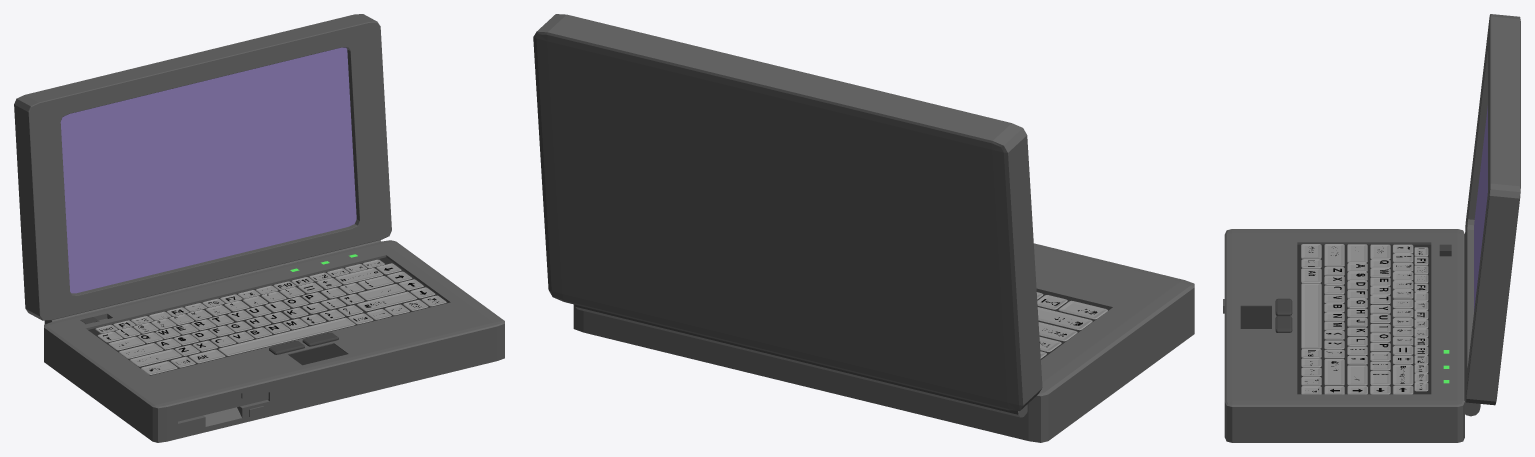
Rendered from laptop.obj.
The picture shows the model from 3 angles, left to right: view 1: azimuth 30°, elevation 25°; view 2: azimuth 150°, elevation 25°; view 3: azimuth 270°, elevation 25°; orthographic projection. The views are drawn at different scales.
Parts seen in each view (by area): view 1: Laptop.lwo; view 2: Laptop.lwo; view 3: Laptop.lwo.
Part boxes in pixels (x1,y1,x2,y2): Laptop.lwo: [14, 14, 504, 442]; Laptop.lwo: [533, 14, 1194, 442]; Laptop.lwo: [1223, 14, 1520, 442].
Bounding box in the file's own units: 0.3115 × 0.208 × 0.22.
